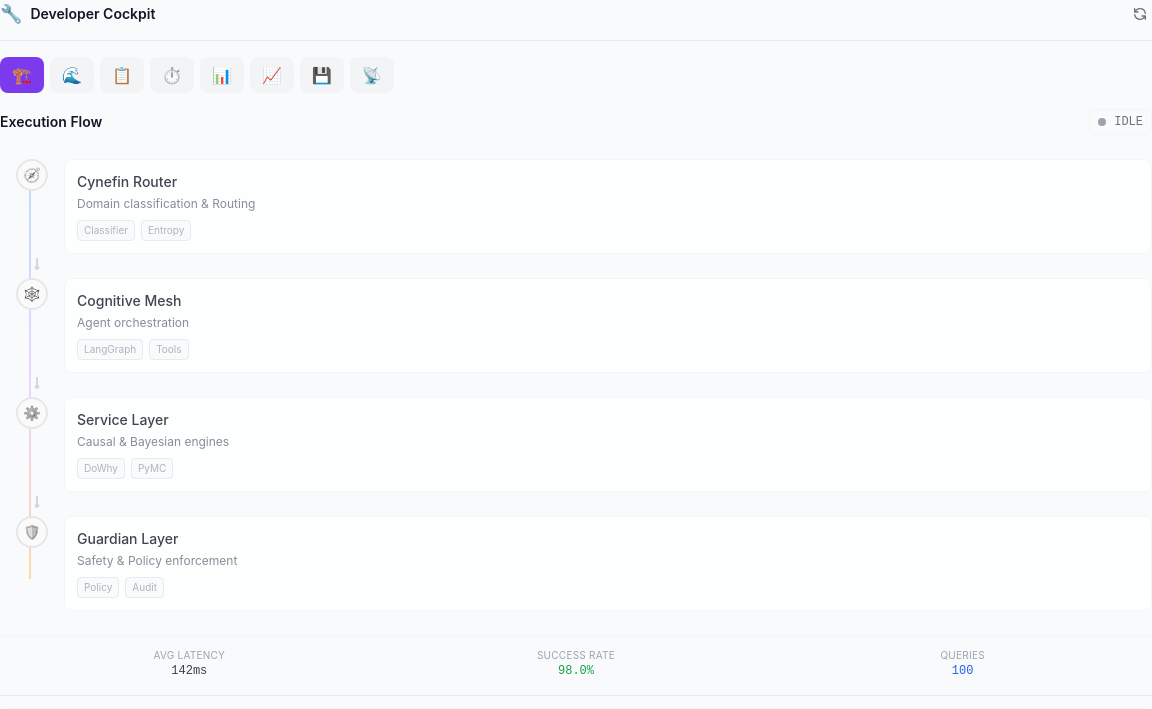
Test case: DeveloperView › View Components button (5C) › shows component list when View Components is clicked on a selected layer
// Click on a layer to select it
Click the text "Cynefin Router" at (127, 182), box [77,172,177,192]
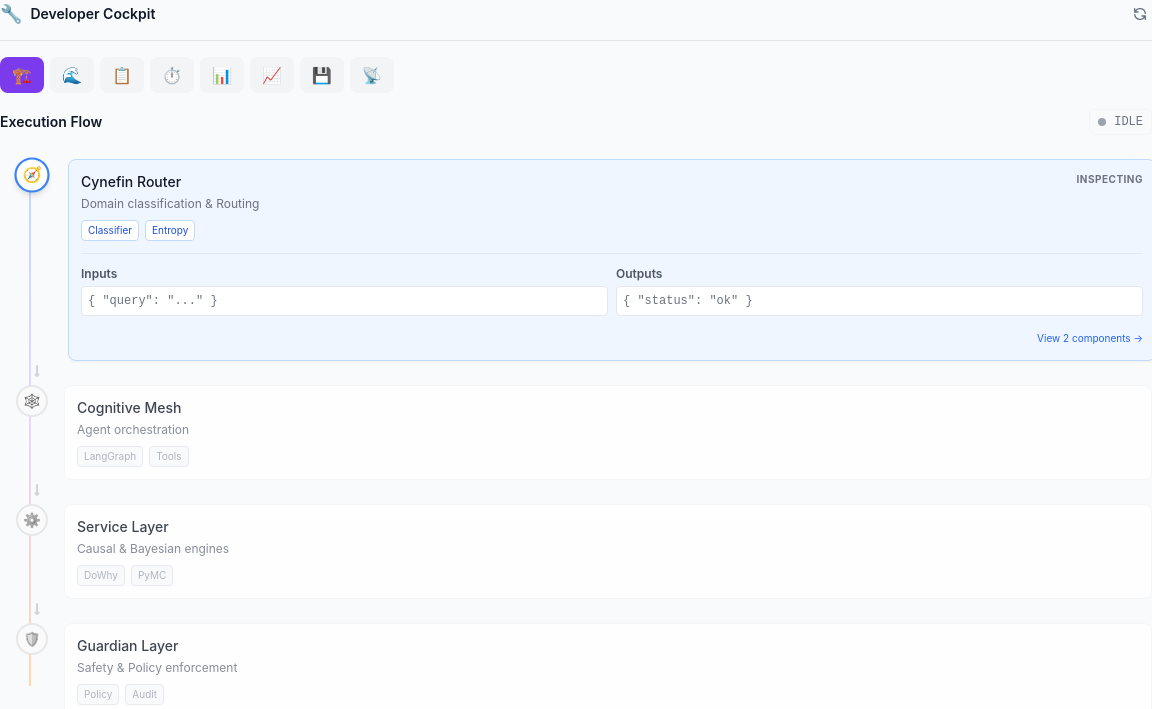
Check: the button with test id "view-components-router" is shown
// Click the "View components" button
Click the button with test id "view-components-router" at (1090, 338), box [1037,331,1143,346]
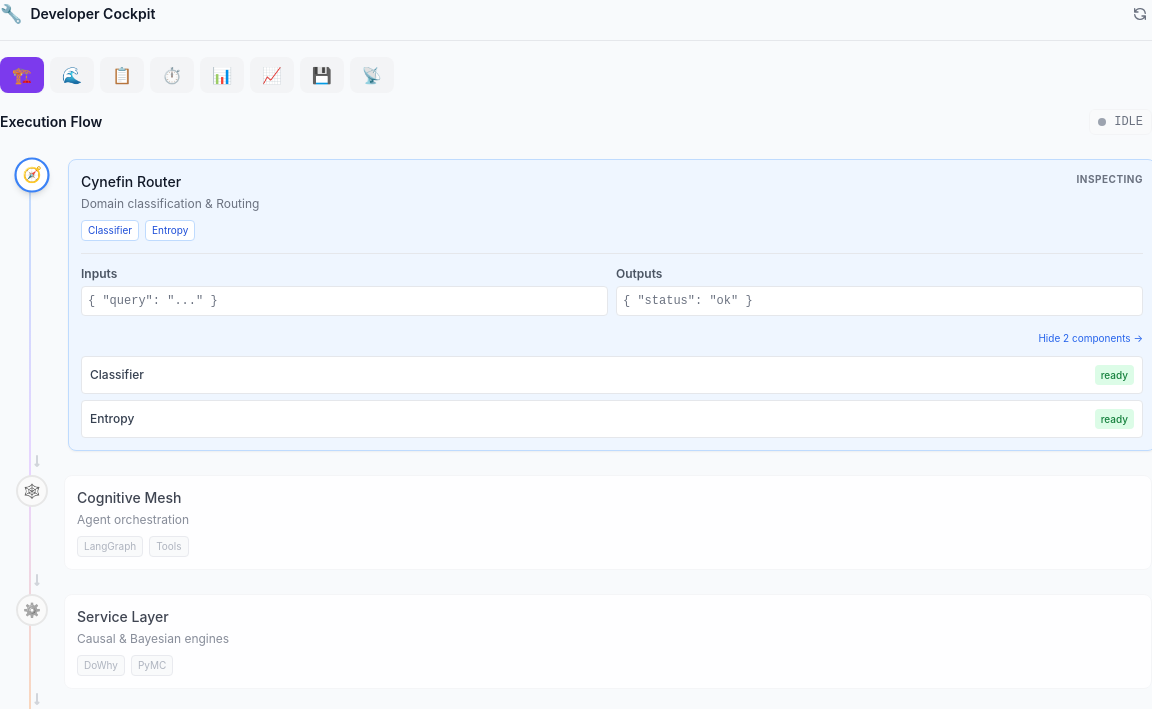
Check: the element with test id "components-panel-router" is shown, box [81,356,1143,438]
Check: the element with test id "components-panel-router" shows "Classifier", box [90,367,144,382]
Check: the element with test id "components-panel-router" shows "Entropy", box [90,411,134,426]
